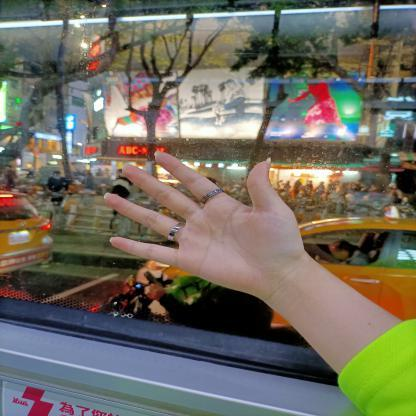bare_hand: (94, 148, 314, 301)
